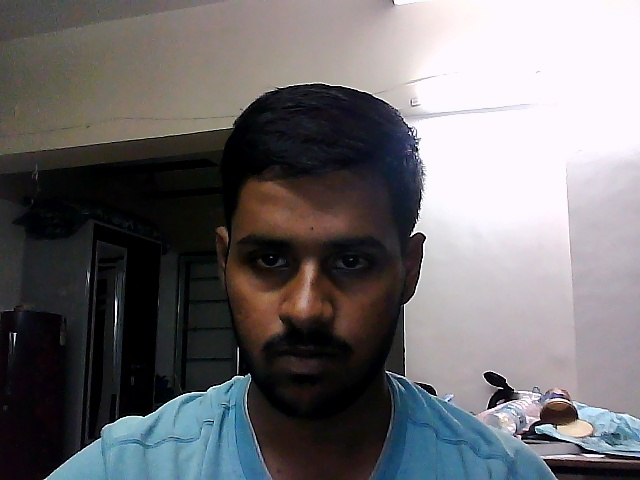awake: (173, 79, 445, 424)
